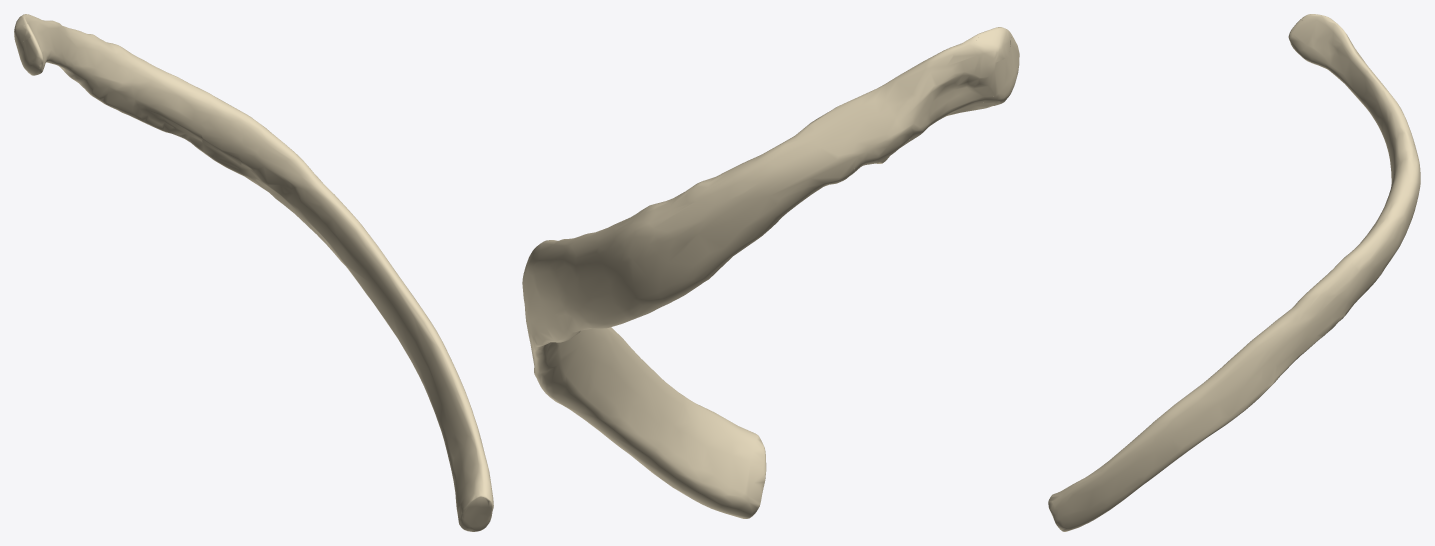
The model's file is esqueleto-ninth-rib-l.glb.
3 renders of one model, left to right at view 1: azimuth 30°, elevation 25°; view 2: azimuth 150°, elevation 25°; view 3: azimuth 270°, elevation 25°, orthographic. The views are drawn at different scales.
Parts seen in each view (by area): view 1: Ninth rib.l; view 2: Ninth rib.l; view 3: Ninth rib.l.
Part boxes in pixels (x1,y1,x2,y2): Ninth rib.l: (14, 14, 493, 531); Ninth rib.l: (522, 27, 1019, 518); Ninth rib.l: (1048, 14, 1420, 531).
Size of the model in its own units: 0.1152 by 0.1551 by 0.1324.
